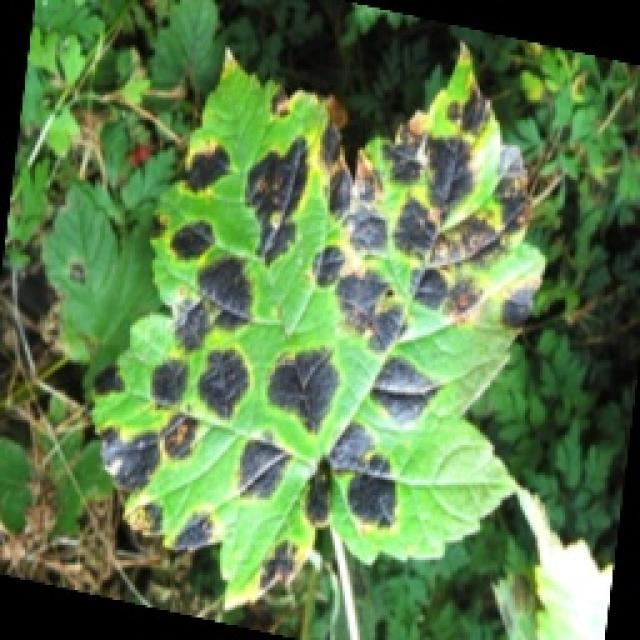Tar_Spot: (125, 82, 515, 564)
